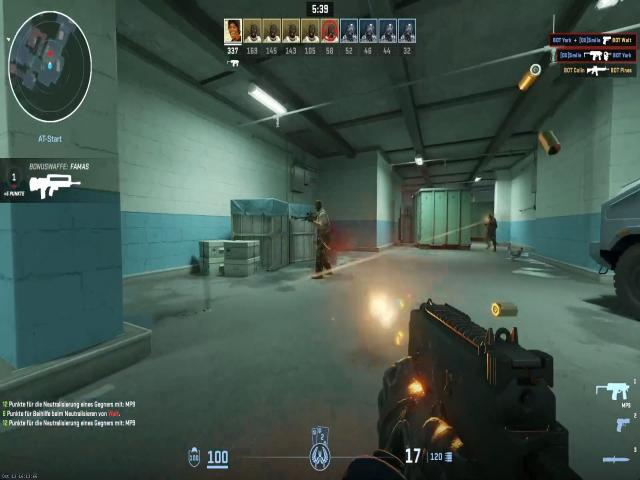CT: (484, 212, 498, 249)
T: (311, 196, 332, 254)
T-Head: (315, 199, 325, 215)
